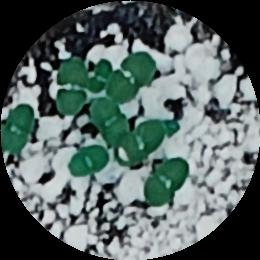Basil: (106, 54, 161, 103), (118, 119, 167, 164), (141, 157, 186, 204), (3, 103, 36, 156), (91, 100, 129, 143), (54, 62, 83, 113), (65, 145, 110, 176), (92, 60, 115, 91)
